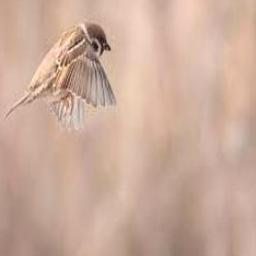Sparrow: (4, 21, 116, 133)
